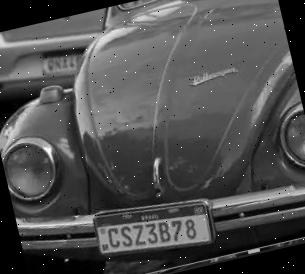placa_mercosul: (93, 200, 214, 254)
